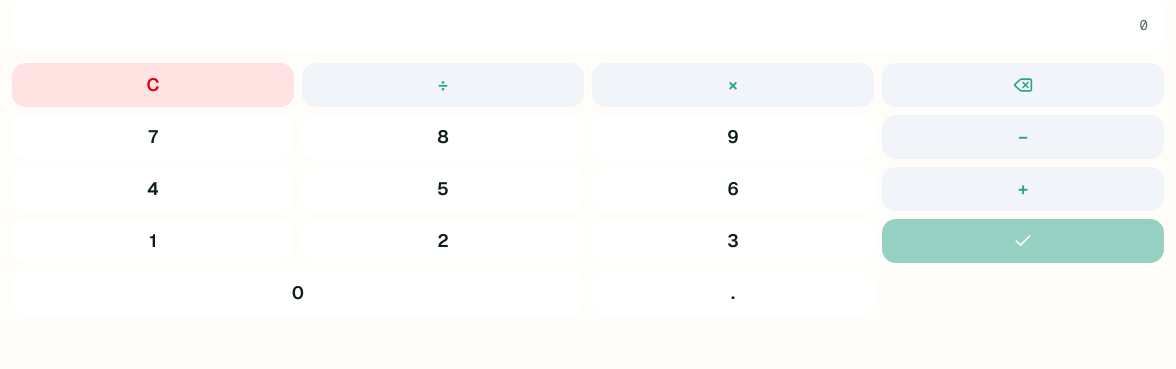
Test case: Calculator Component › number input › should prevent multiple decimals in same number
This screenshot has width=1176, height=369.
Click the button "1". click: (153, 241)
box: [12,219,294,263]
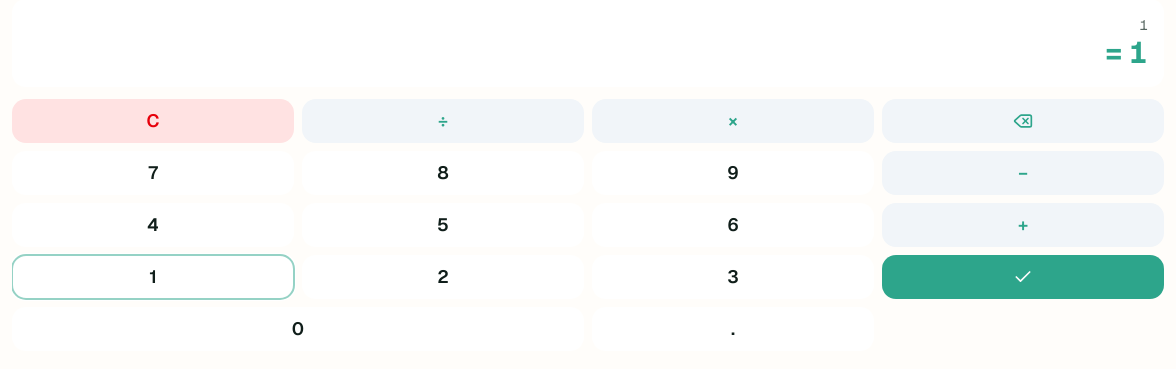
Click the button ".". click: (733, 329)
box: [592,307,874,351]
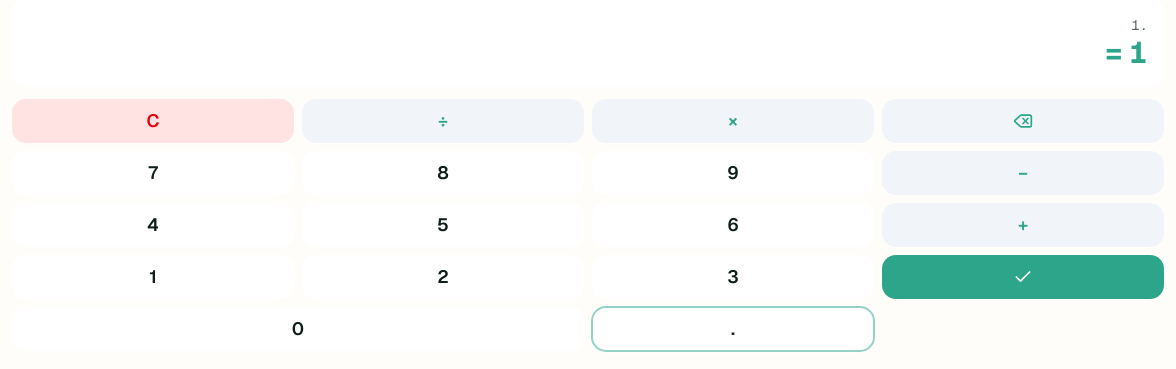
Click the button "5". click: (443, 225)
box: [302,203,584,247]
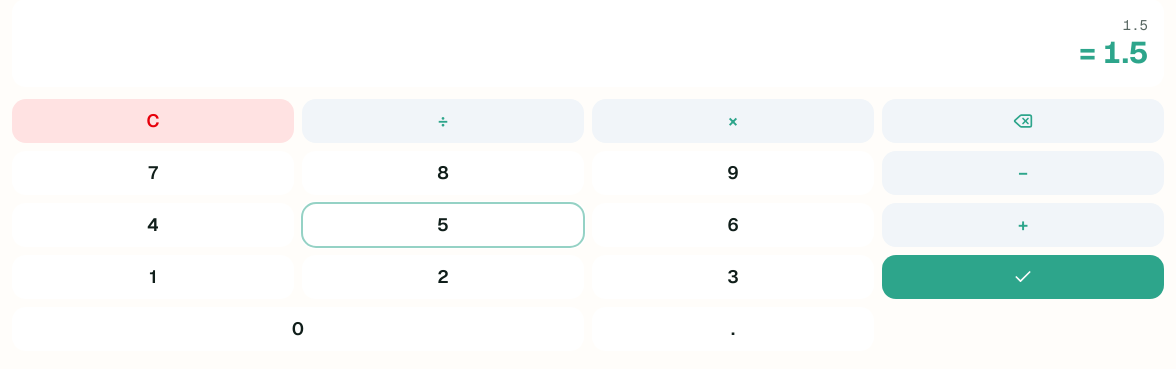
Click the button ".". click: (733, 329)
box: [592,307,874,351]
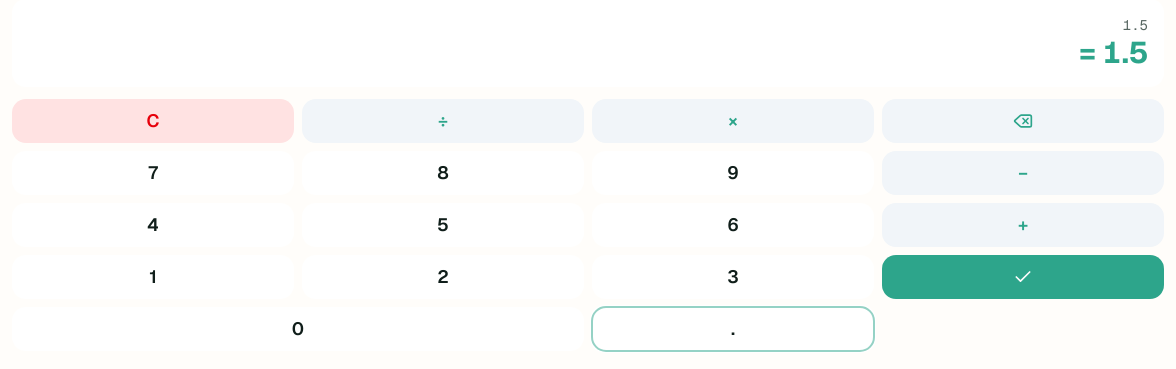
Click the button "2". click: (443, 277)
box: [302,255,584,299]
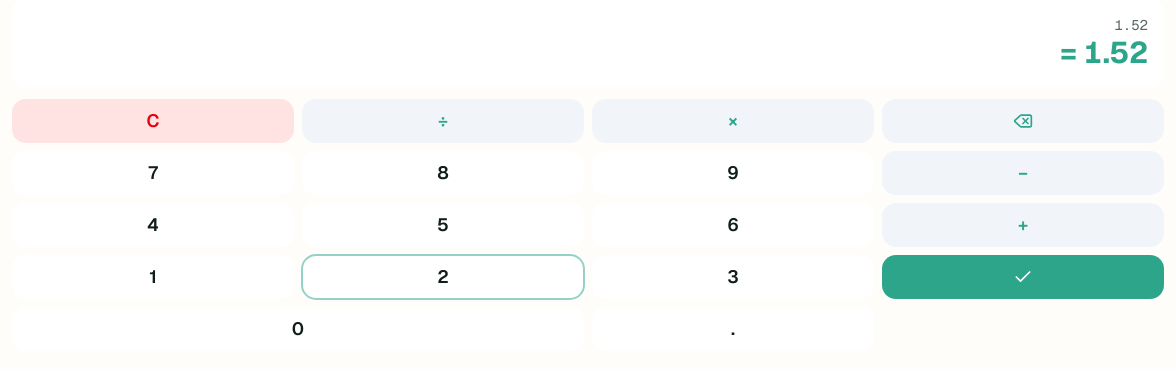
Result: the text "1.52" is shown at [1114,16,1148,34]
